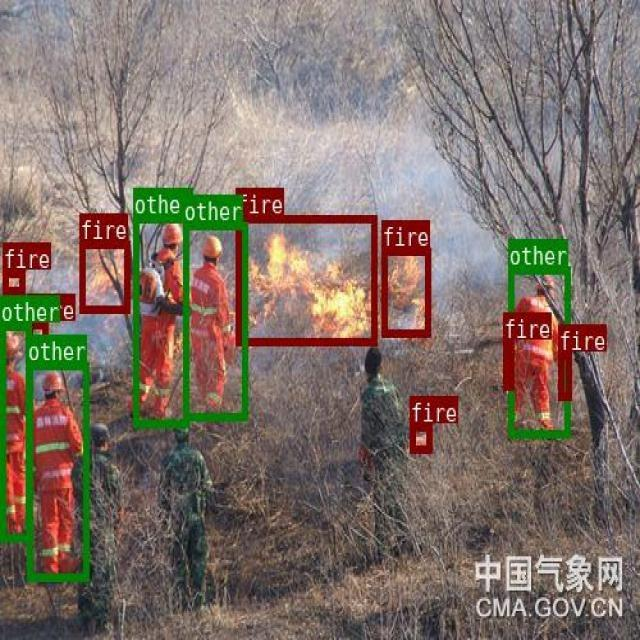fire: (235, 215, 376, 344), (381, 248, 430, 337), (79, 239, 128, 311), (409, 422, 430, 452), (558, 350, 570, 398), (503, 338, 513, 389), (2, 270, 24, 293), (27, 320, 47, 342)
